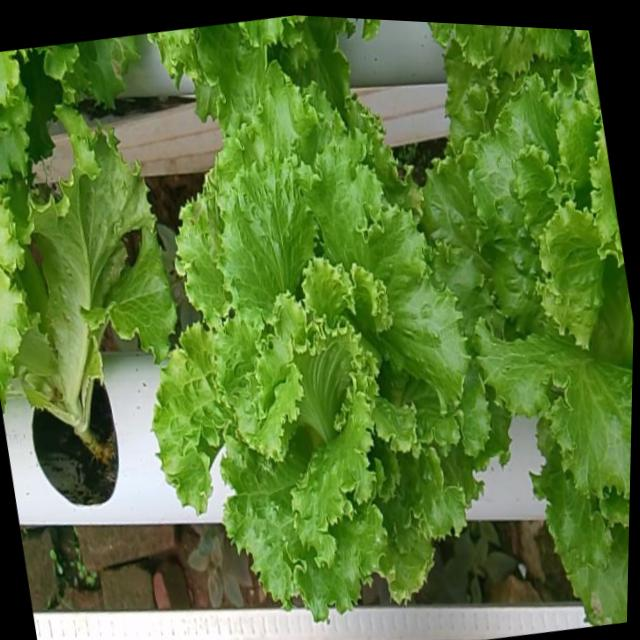Mature: (147, 97, 485, 640), (417, 88, 633, 524)
